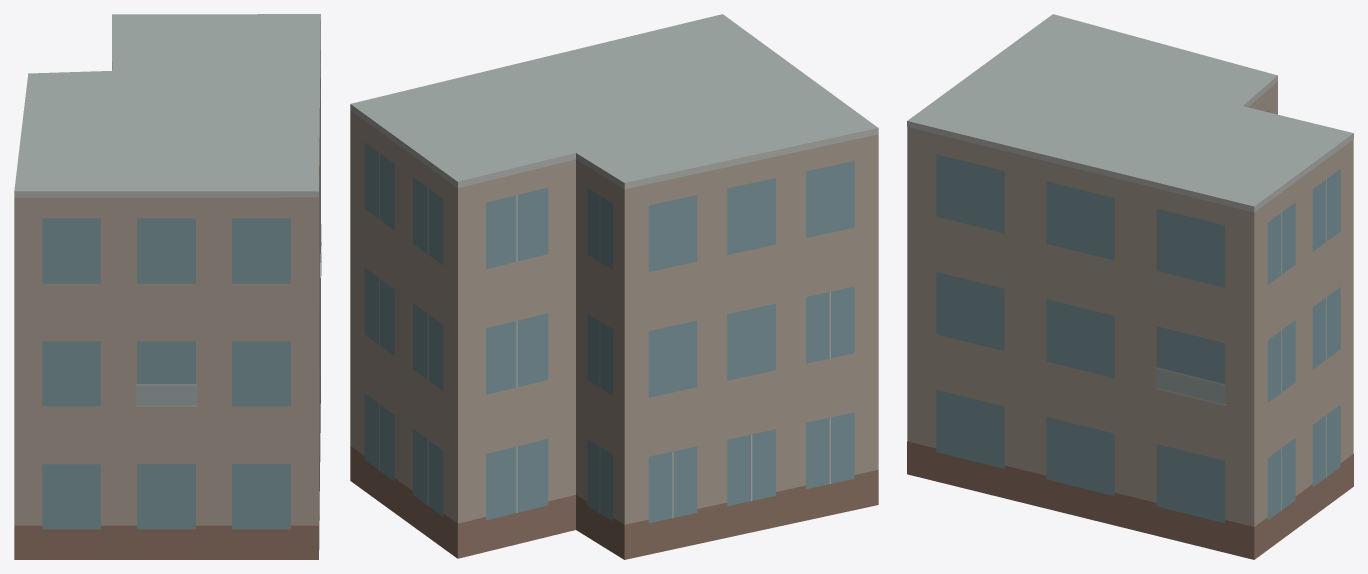
The model's file is survey-upis-32771663.glb.
3 views of the same model, side by side, from view 1: azimuth 30°, elevation 25°; view 2: azimuth 150°, elevation 25°; view 3: azimuth 270°, elevation 25° (orthographic). The views are drawn at different scales.
Visible parts, largest first — view 1: survey-upis-32771663.tmp; view 2: survey-upis-32771663.tmp; view 3: survey-upis-32771663.tmp.
Boxes of the visible parts, x1=… form: survey-upis-32771663.tmp: x1=14, y1=14, x2=321, y2=559; survey-upis-32771663.tmp: x1=350, y1=14, x2=878, y2=559; survey-upis-32771663.tmp: x1=907, y1=14, x2=1353, y2=559.
Size of the model in its own units: 16.84 by 14.4 by 16.51.
